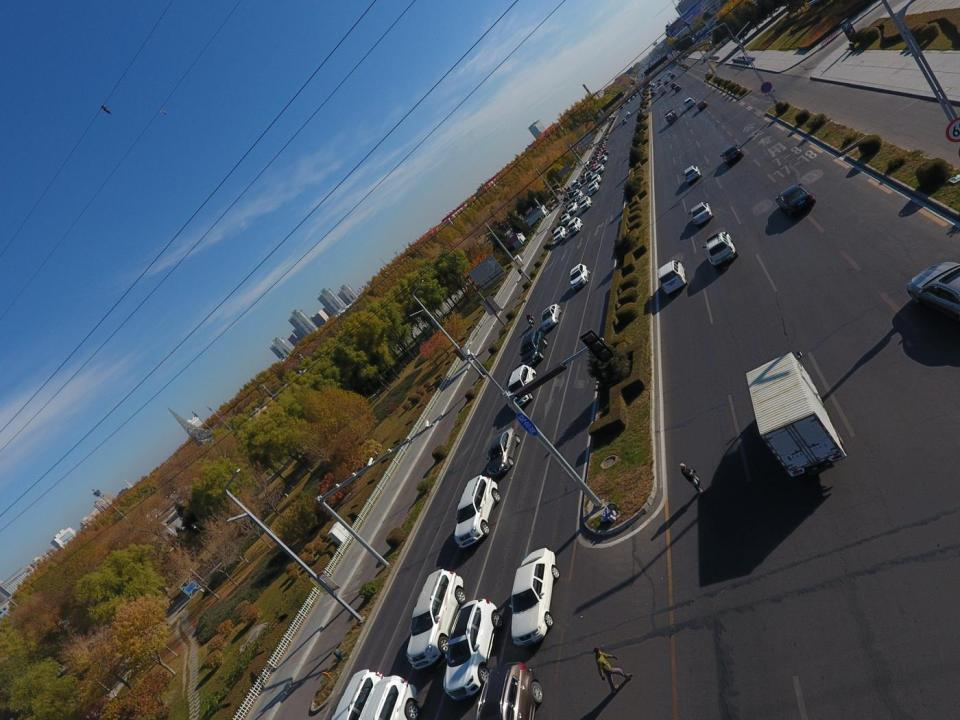car: (406, 570, 467, 671), (444, 598, 503, 701), (511, 546, 559, 648), (473, 661, 543, 720), (906, 262, 960, 328), (454, 474, 501, 548), (329, 669, 390, 720), (354, 675, 418, 720), (487, 426, 520, 477), (508, 365, 538, 409), (776, 184, 816, 216), (705, 231, 738, 267), (658, 260, 688, 296), (520, 330, 548, 367), (541, 303, 562, 331), (691, 201, 713, 227), (570, 262, 590, 290), (721, 144, 743, 166), (684, 164, 701, 186), (568, 218, 583, 236), (553, 226, 568, 244), (580, 195, 592, 212), (563, 189, 578, 202), (588, 181, 600, 195), (696, 99, 708, 112), (684, 98, 695, 110), (567, 204, 579, 215), (561, 212, 571, 225), (595, 163, 606, 174), (580, 171, 590, 183), (591, 173, 601, 184), (571, 196, 581, 206), (573, 190, 584, 199), (600, 154, 608, 165), (586, 172, 594, 180), (674, 85, 682, 92), (620, 118, 628, 125), (592, 156, 599, 164), (670, 82, 677, 89), (594, 152, 601, 159), (598, 142, 606, 148), (596, 147, 604, 153), (592, 160, 598, 168), (601, 150, 609, 156), (600, 140, 607, 146), (589, 164, 595, 171), (584, 160, 590, 166), (618, 104, 624, 109), (667, 70, 672, 76), (650, 92, 655, 98), (670, 74, 675, 80), (663, 80, 668, 85), (651, 82, 655, 88), (626, 111, 630, 117), (603, 136, 608, 140), (657, 76, 660, 82), (658, 82, 662, 86), (634, 92, 637, 97), (630, 96, 634, 99), (627, 98, 630, 102)
truck: (745, 352, 847, 479), (665, 109, 678, 126), (657, 85, 666, 96)
van: (570, 180, 582, 190), (650, 87, 654, 93)
